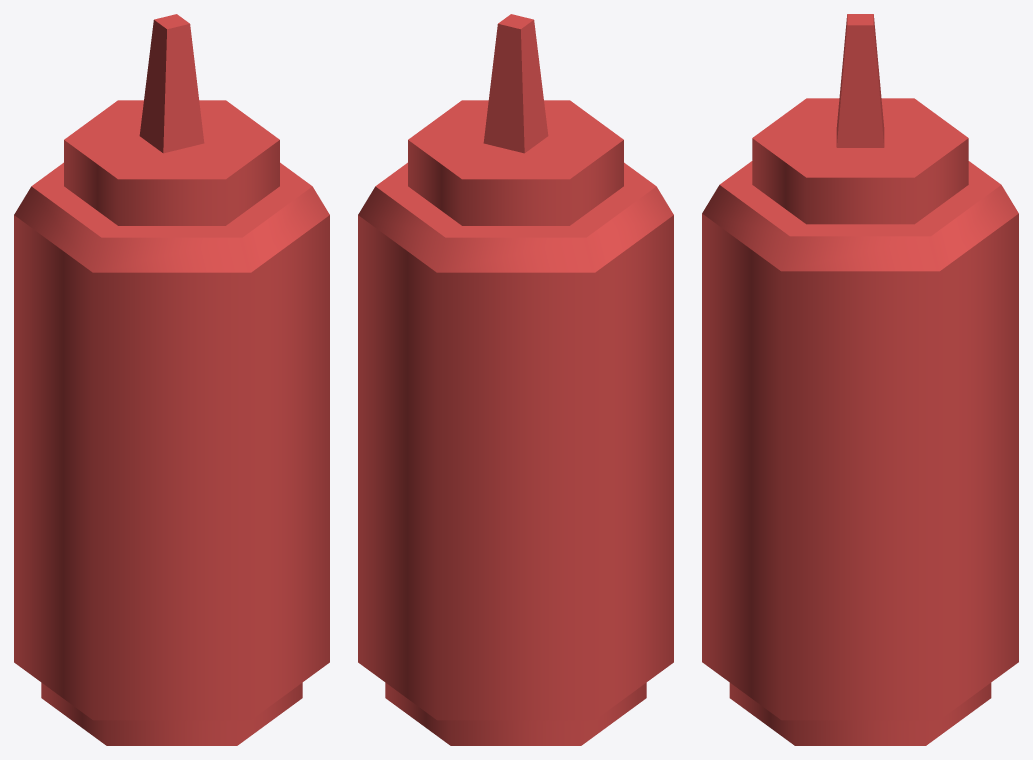
File: bottleKetchup.obj
3 renders of one model, left to right at view 1: azimuth 30°, elevation 25°; view 2: azimuth 150°, elevation 25°; view 3: azimuth 270°, elevation 25°, orthographic.
Parts seen in each view (by area): view 1: bottleKetchup; view 2: bottleKetchup; view 3: bottleKetchup.
Part boxes in pixels (<box>): bottleKetchup: <box>14,14,329,745</box>; bottleKetchup: <box>358,14,673,745</box>; bottleKetchup: <box>702,14,1018,745</box>.
Size of the model in its own units: 0.1441 by 0.3931 by 0.1664.
